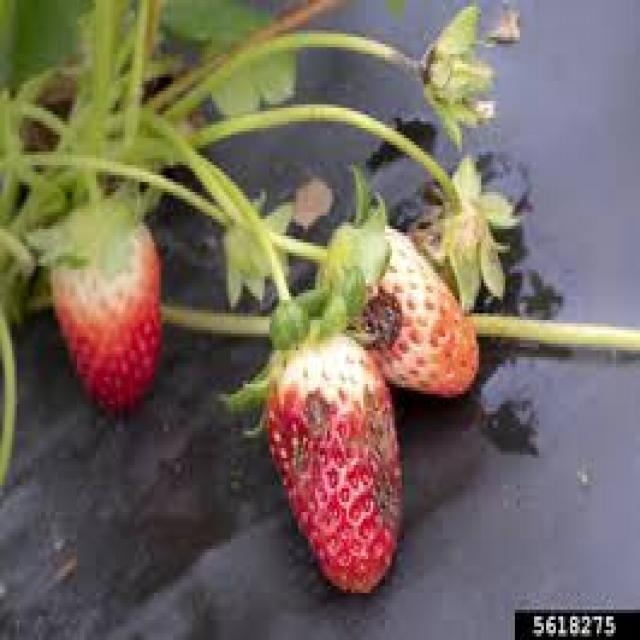Fruta sana: (44, 211, 164, 411)
Mancha negra Antracnosis: (257, 335, 404, 587), (323, 205, 484, 402)
